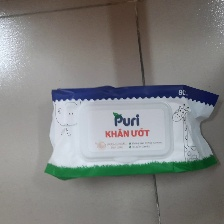Puri Trang: (42, 83, 222, 182)
